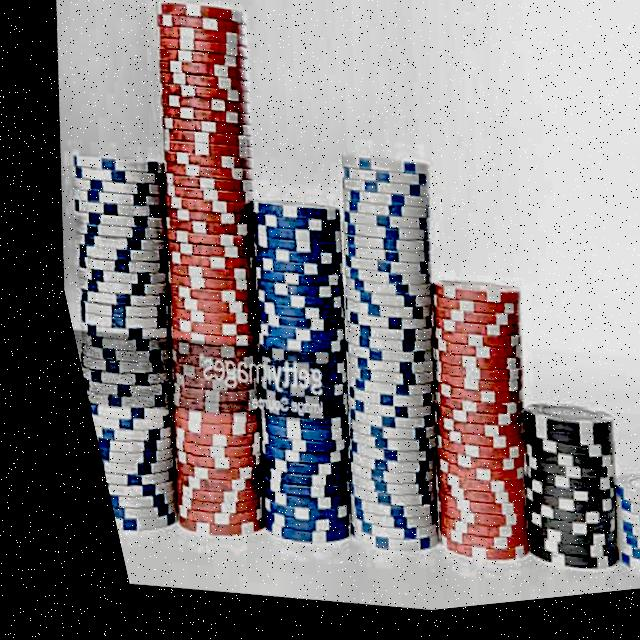Chip: (51, 0, 347, 556), (254, 146, 497, 578), (174, 183, 402, 569), (25, 133, 235, 551), (356, 265, 564, 588), (465, 394, 629, 598), (567, 471, 640, 601)
